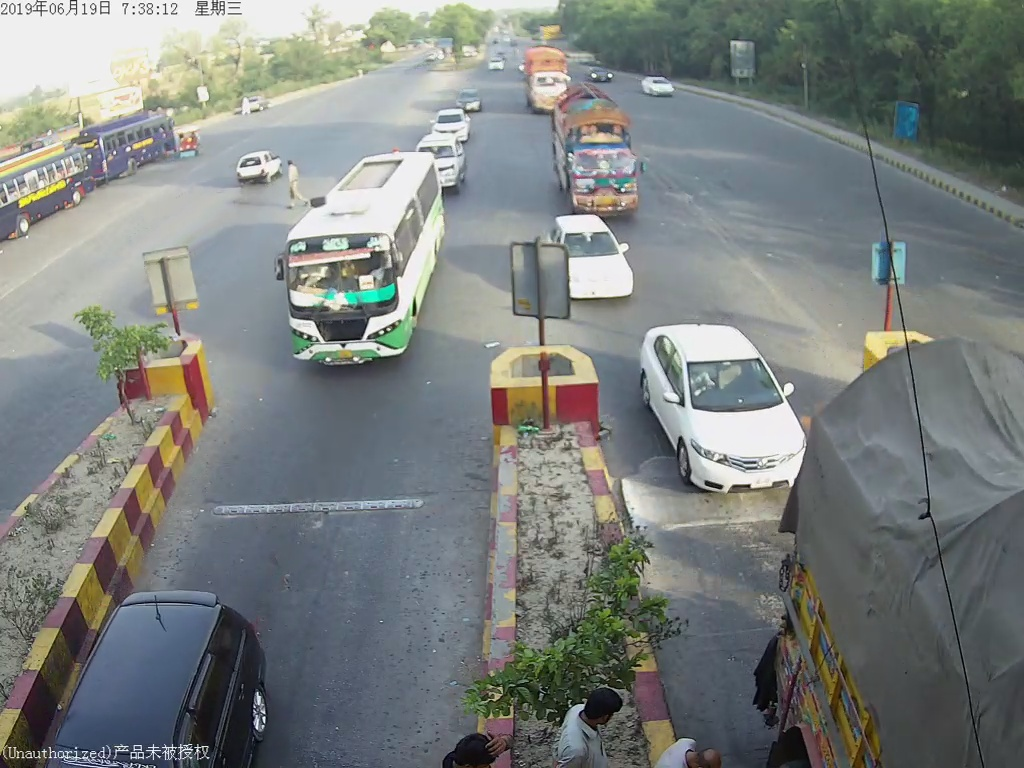Cat-1: (645, 323, 809, 493), (553, 209, 638, 304), (423, 137, 467, 191)
Cat-3: (285, 153, 453, 366)
Cat-4: (547, 86, 647, 211), (526, 46, 572, 112)
